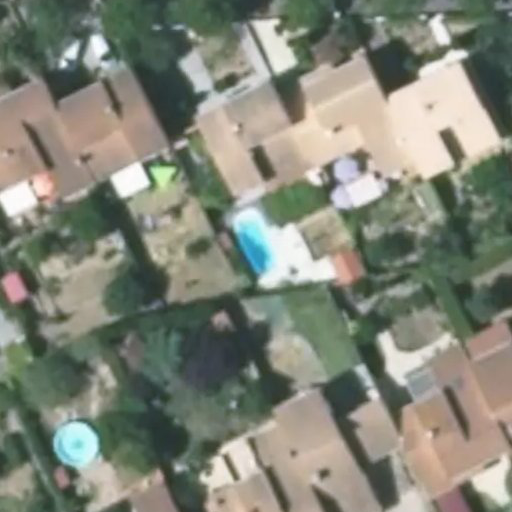pool: (234, 218, 274, 276), (54, 424, 99, 468)
